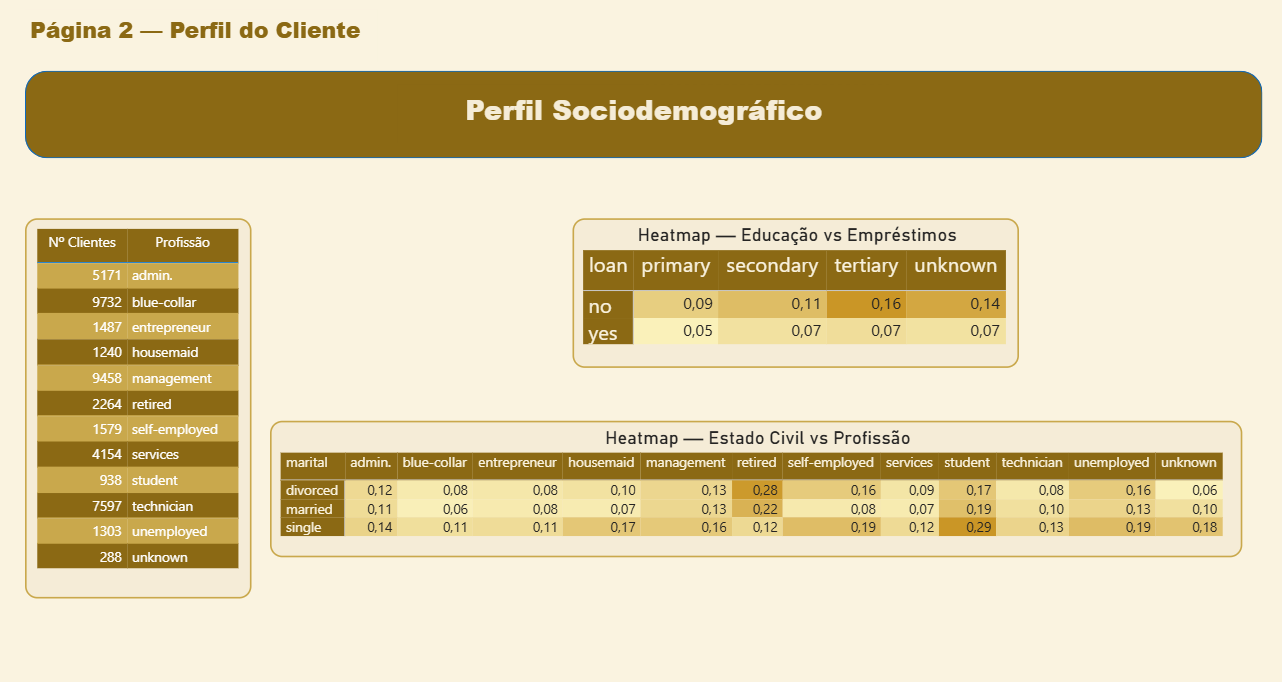

The dashboard page shown, as its layout file describes it:
{"tool":"powerbi","page":{"name":"Page 2","canvas":[1280,720],"ordinal":1},"visuals":[{"type":"textbox","box":[34.2,26.9,344.9,51.4],"z":0},{"type":"shape","title":"ANÁLISE DE CLIENTES BANCÁRIOS","box":[34.2,86.8,1210.6,85.6],"z":1000},{"type":"textbox","box":[398.6,100.3,481.8,57.5],"z":2000},{"type":"tableEx","title":"Contagem por Profissão","fields":{"Values":["CountNonNull(bank-full.age)","bank-full.job"]},"box":[34.2,231.1,221.4,371.8],"z":3000},{"type":"pivotTable","title":"Heatmap — Educação vs Empréstimos","fields":{"Values":["Medidas.Taxa_Conversao"],"Rows":["bank-full.loan"],"Columns":["bank-full.education"]},"box":[569.9,231.1,436.6,146.8],"z":4000},{"type":"pivotTable","title":"Heatmap — Estado Civil vs Profissão","fields":{"Values":["Medidas.Taxa_Conversao"],"Rows":["bank-full.marital"],"Columns":["bank-full.job"]},"box":[274,429.3,951.5,133.3],"z":5000}]}

Visuals, with their boxes on the page's 1280x720 design canvas (x1, y1, x2, y2). These are canvas units, not pixel positions in the 1282x682 screenshot, which may show the page scaled, cropped or inside an application window:
textbox: (34,27,379,78)
"ANÁLISE DE CLIENTES BANCÁRIOS" shape: (34,87,1245,172)
textbox: (399,100,880,158)
"Contagem por Profissão" tableEx: (34,231,256,603)
"Heatmap — Educação vs Empréstimos" pivotTable: (570,231,1006,378)
"Heatmap — Estado Civil vs Profissão" pivotTable: (274,429,1226,563)
